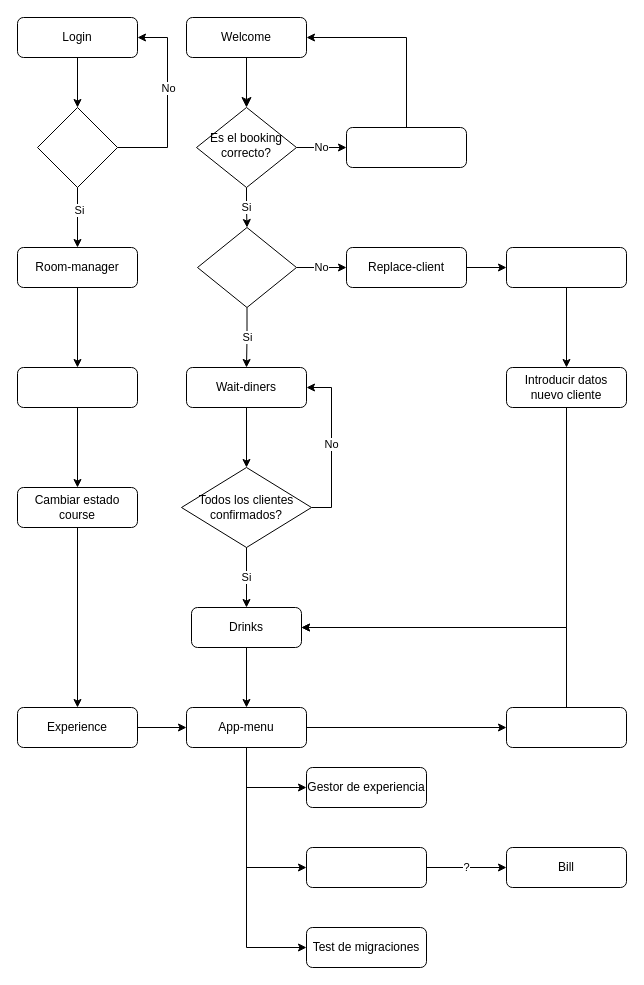
The diagram is 644 pixels wide and 985 high, and some of its shapes have lost their labels. The centre of each missing label's shape, as x and y in pixels:
Autentica?: point 77,147
Bebidas: point 566,727
Esta el cliente en la mesa?: point 246,267
Extras: point 366,867
seleccionar a quien sustituyes: point 566,267
Seleccionar otro booking: point 406,147
Selección de mesa: point 77,387
